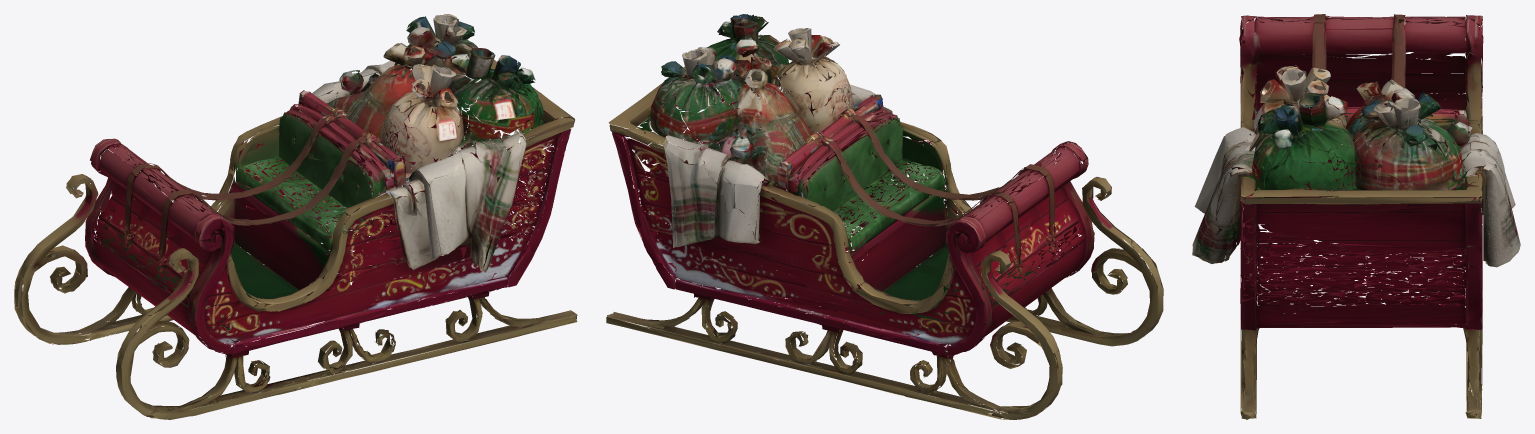
The model's file is Sleigh.fbx.
3 renders of one model, left to right at view 1: azimuth 30°, elevation 25°; view 2: azimuth 150°, elevation 25°; view 3: azimuth 270°, elevation 25°, orthographic. The views are drawn at different scales.
Parts seen in each view (by area): view 1: Sleigh; view 2: Sleigh; view 3: Sleigh.
Boxes of the visible parts, <box> form: Sleigh: <box>14,14,577,419</box>; Sleigh: <box>606,14,1163,419</box>; Sleigh: <box>1192,14,1520,419</box>.
Size of the model in its own units: 300 by 165 by 170.
1 material, 1 textured.
